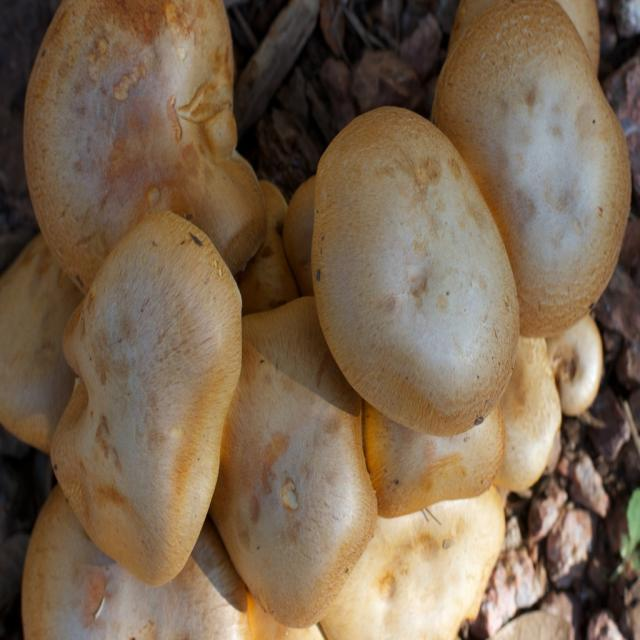Mushroom: (0, 1, 633, 640), (48, 250, 240, 630)
